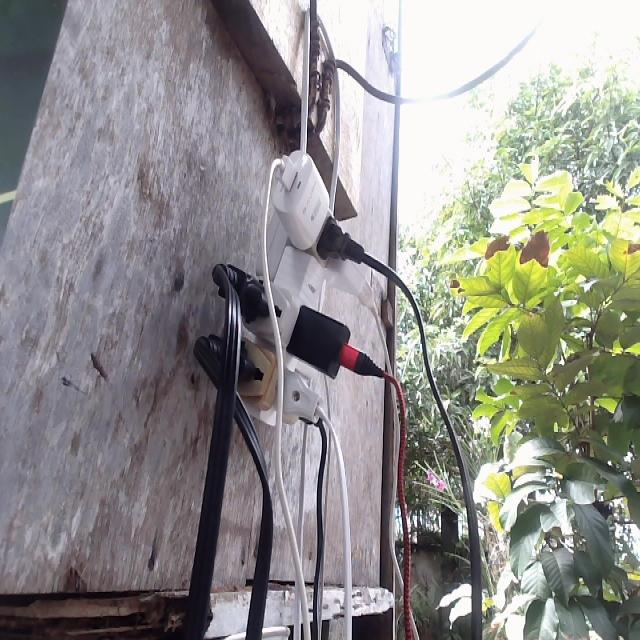-: (194, 147, 386, 428)
